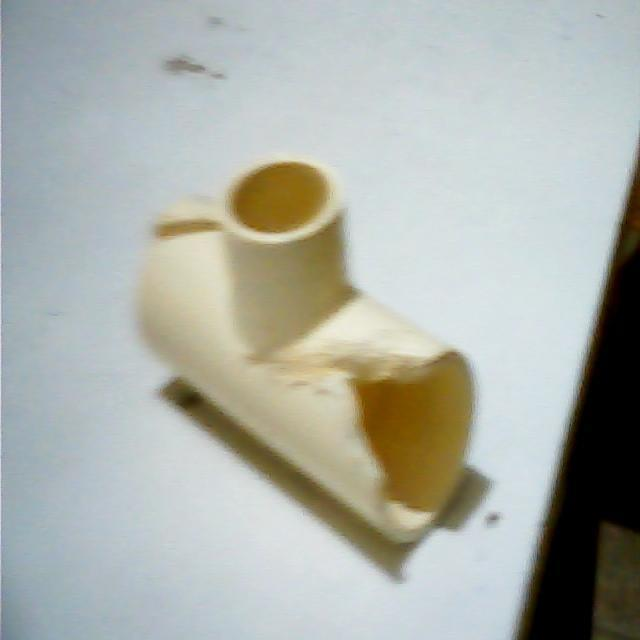Defective: (300, 344, 408, 492), (152, 205, 222, 258)
T Joint: (133, 158, 475, 542)
